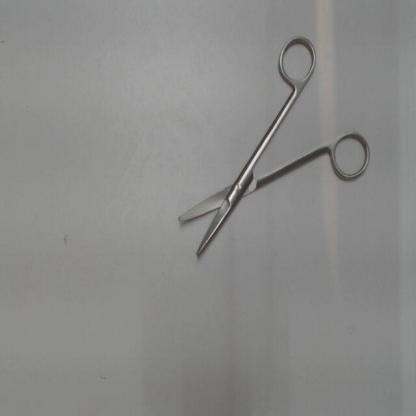Curved Mayo Scissors: (171, 30, 373, 266)
